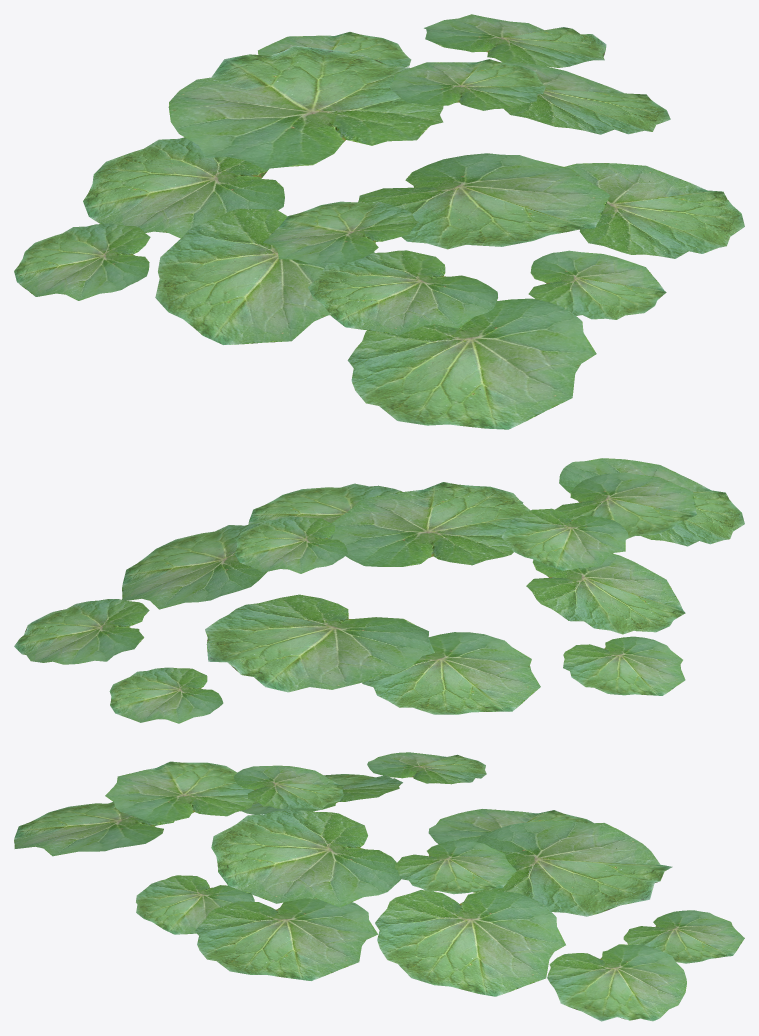
The model's file is Leopard1.fbx.
3 views of the same model, one above another, from view 1: azimuth 30°, elevation 25°; view 2: azimuth 150°, elevation 25°; view 3: azimuth 270°, elevation 25° (orthographic). The views are drawn at different scales.
Visible parts, largest first — view 1: Leopard1; view 2: Leopard1; view 3: Leopard1.
Boxes of the visible parts, bbox=[...] form: Leopard1: bbox=[14, 14, 744, 429]; Leopard1: bbox=[14, 458, 744, 723]; Leopard1: bbox=[14, 752, 744, 1021].
Size of the model in its own units: 119 by 15.94 by 139.
